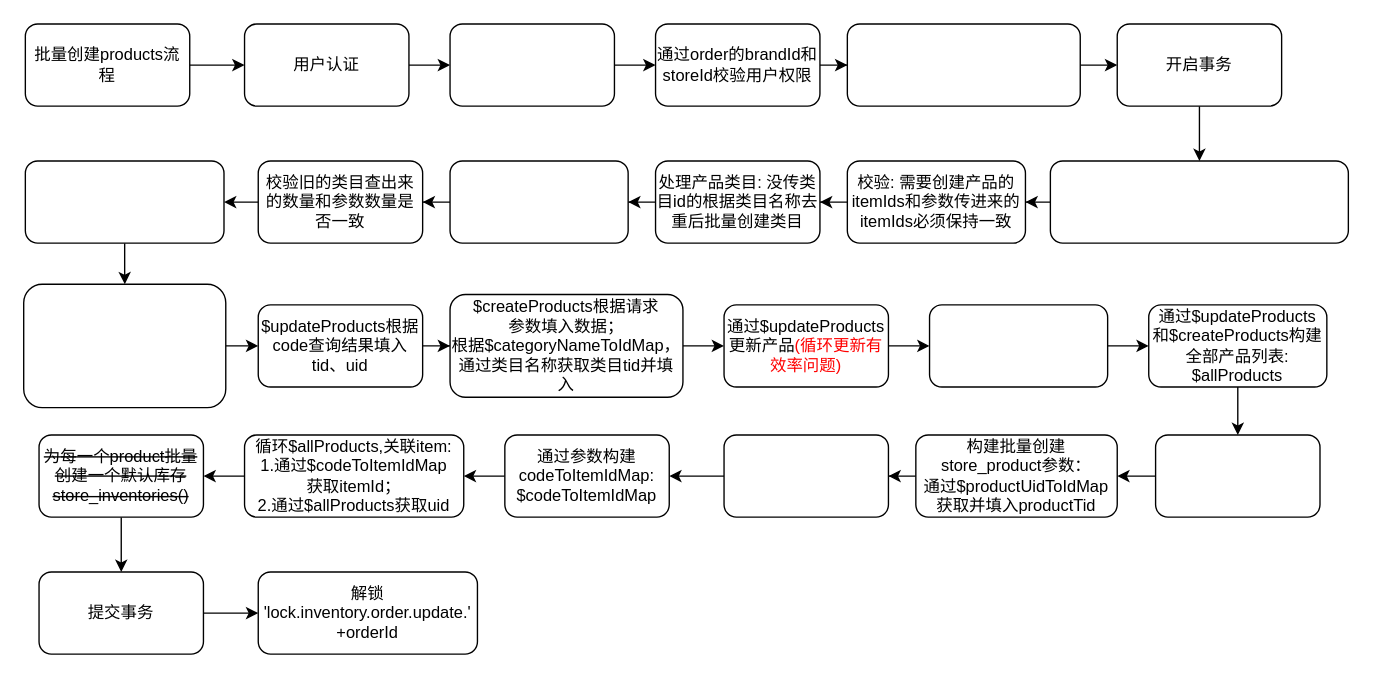
Image size: 1373x678. Some labels were removed from this diagram. The shapes that lost their labels are listed below. From the top down, each one's centre as x and y in pixels, then its label:
the point at 531,64: 根据orderId查order
the point at 963,64: 加锁 'lock.inventory.order.update.' +orderId
the point at 124,201: 构建类目nameToIdMap: $categoryNameToIdMap
the point at 538,201: 类目list中关联类目tid: 新的创建时回填tid， 旧的根据uid,name批量查出来
the point at 1198,201: 通过orderId获取需要创建产品itemIds: $needCreateProductItemIds
the point at 124,345: 将products参数按code是否存在分为待创建和待更新: $updateProducts, $createProducts
the point at 1018,345: 通过$createProducts批量创建产品，并回填tid
the point at 805,475: 批量创建store_product (not exist)
the point at 1237,475: 通过$allProducts构建 产品uidToIdMap: $produtcUidToIdMap
